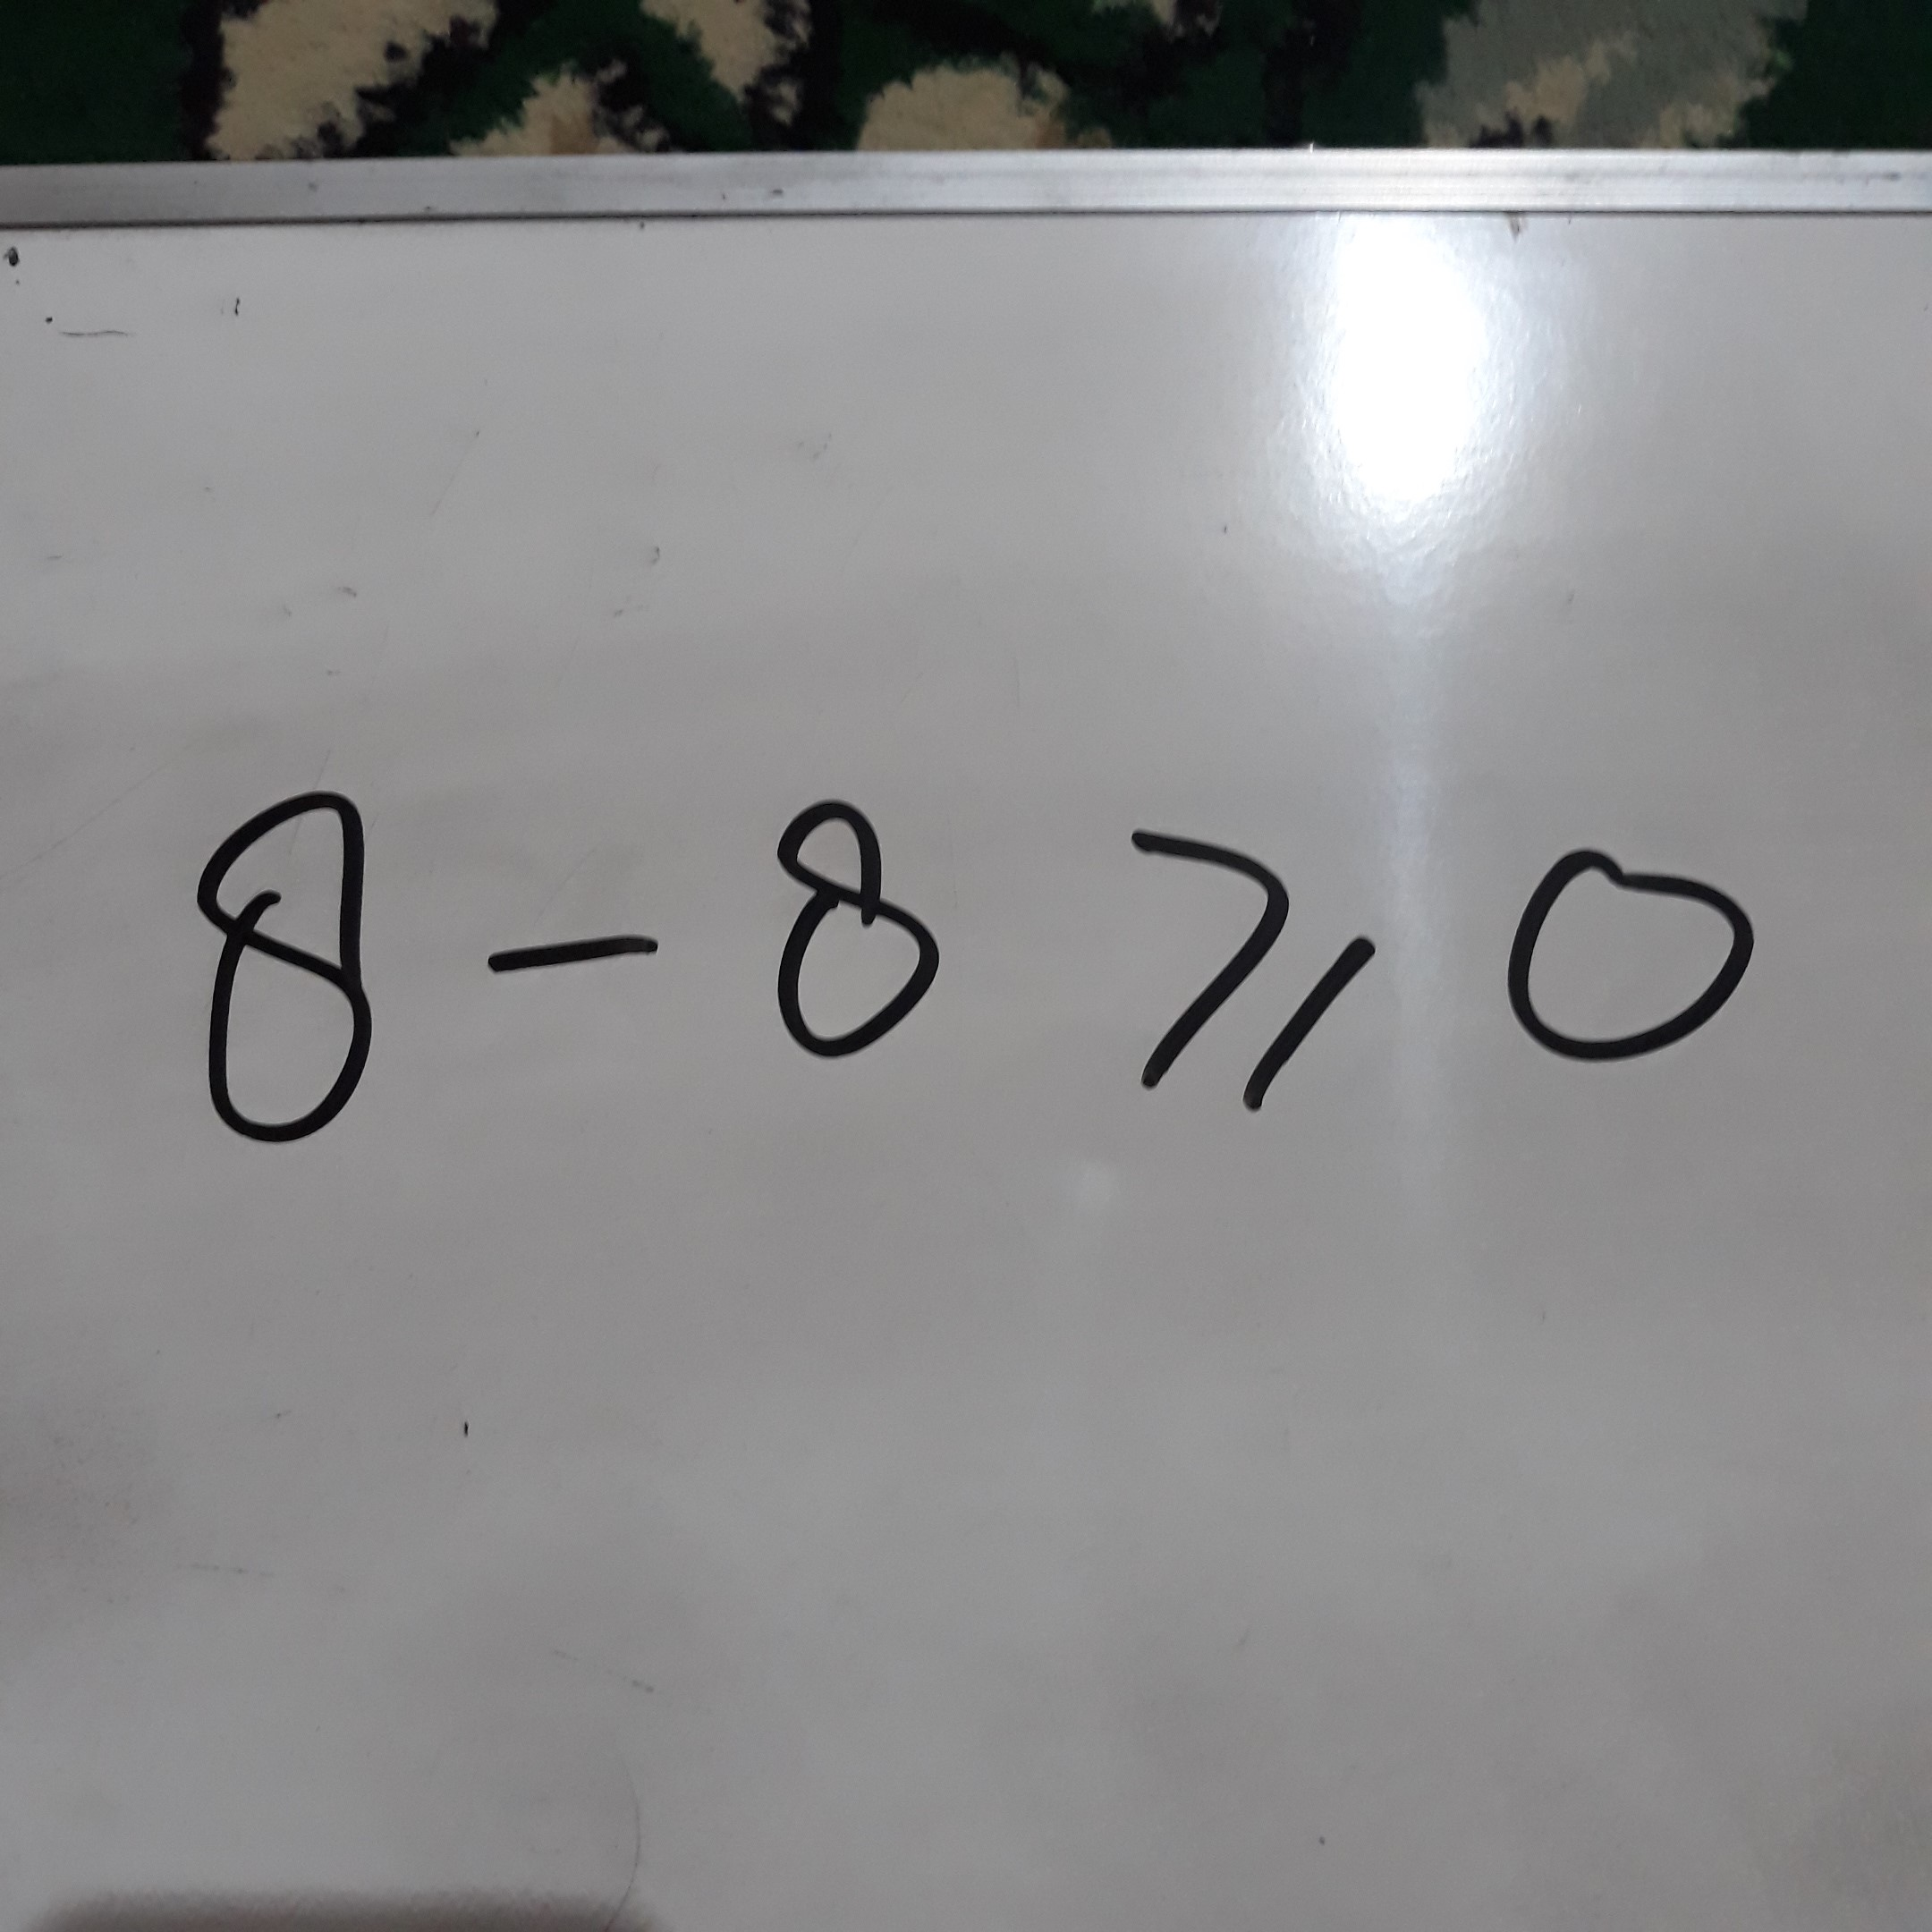min: (469, 897, 675, 996)
morethan-equal: (1107, 782, 1396, 1138)
num0: (1484, 774, 1773, 1130)
num8: (172, 765, 404, 1182), (751, 759, 973, 1085)
